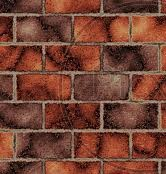brick: (102, 102, 159, 131), (17, 131, 72, 160), (45, 44, 101, 72), (16, 73, 72, 101), (74, 131, 130, 159), (16, 15, 72, 42), (74, 15, 130, 42), (73, 74, 129, 101), (44, 102, 100, 129), (104, 45, 159, 72), (1, 101, 43, 127), (1, 44, 42, 69), (131, 15, 166, 42), (132, 74, 166, 101), (132, 132, 166, 158), (103, 160, 160, 174), (102, 1, 160, 14), (45, 161, 102, 174), (44, 1, 100, 13), (1, 1, 43, 14), (1, 161, 43, 173), (1, 131, 14, 158), (1, 15, 13, 42), (1, 74, 13, 99)
